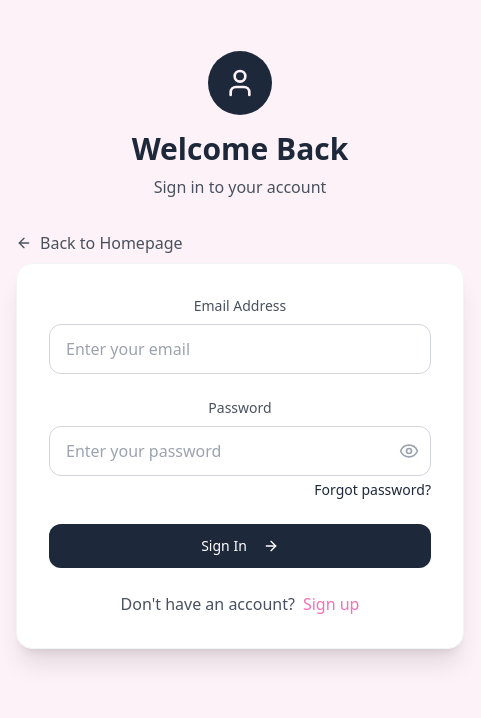
it: LoginForm validation and error mapping › maps auth/wrong-password to a friendly message
In the field with placeholder "Enter your email": (240, 349) top-left (49, 324), bottom-right (431, 374), type "user@example.com"
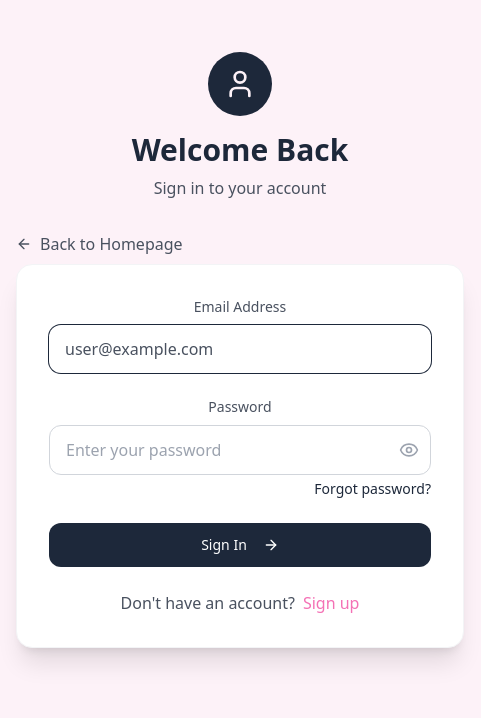
In the password field with placeholder "Enter your password": (240, 450) top-left (49, 425), bottom-right (431, 475), type "correct-password"
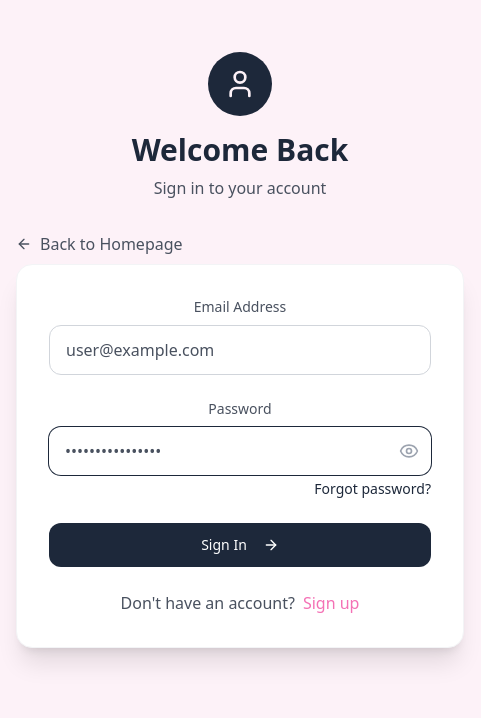
Click the button "Sign In": click(240, 545) top-left (49, 523), bottom-right (431, 567)
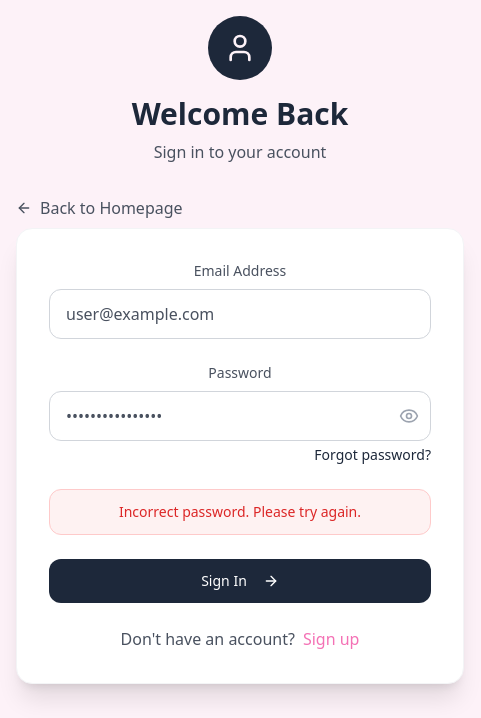
Expected: the text "Incorrect password. Please try again." is shown, top-left (119, 502), bottom-right (361, 521)
